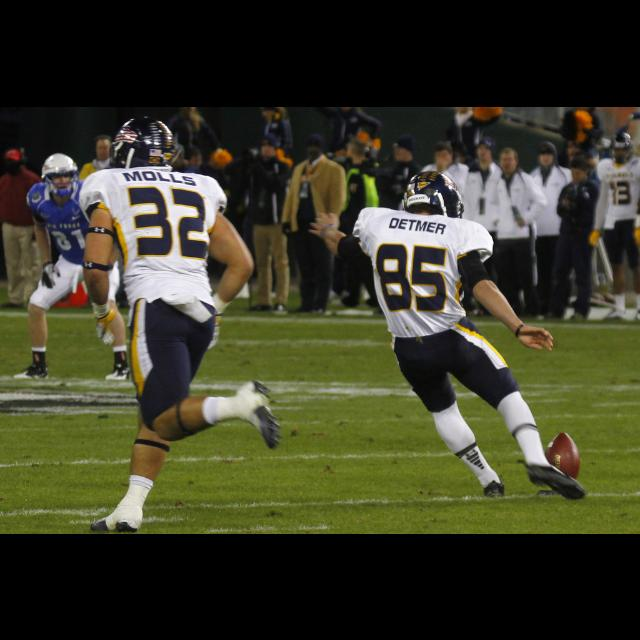Football: (542, 432, 582, 481)
